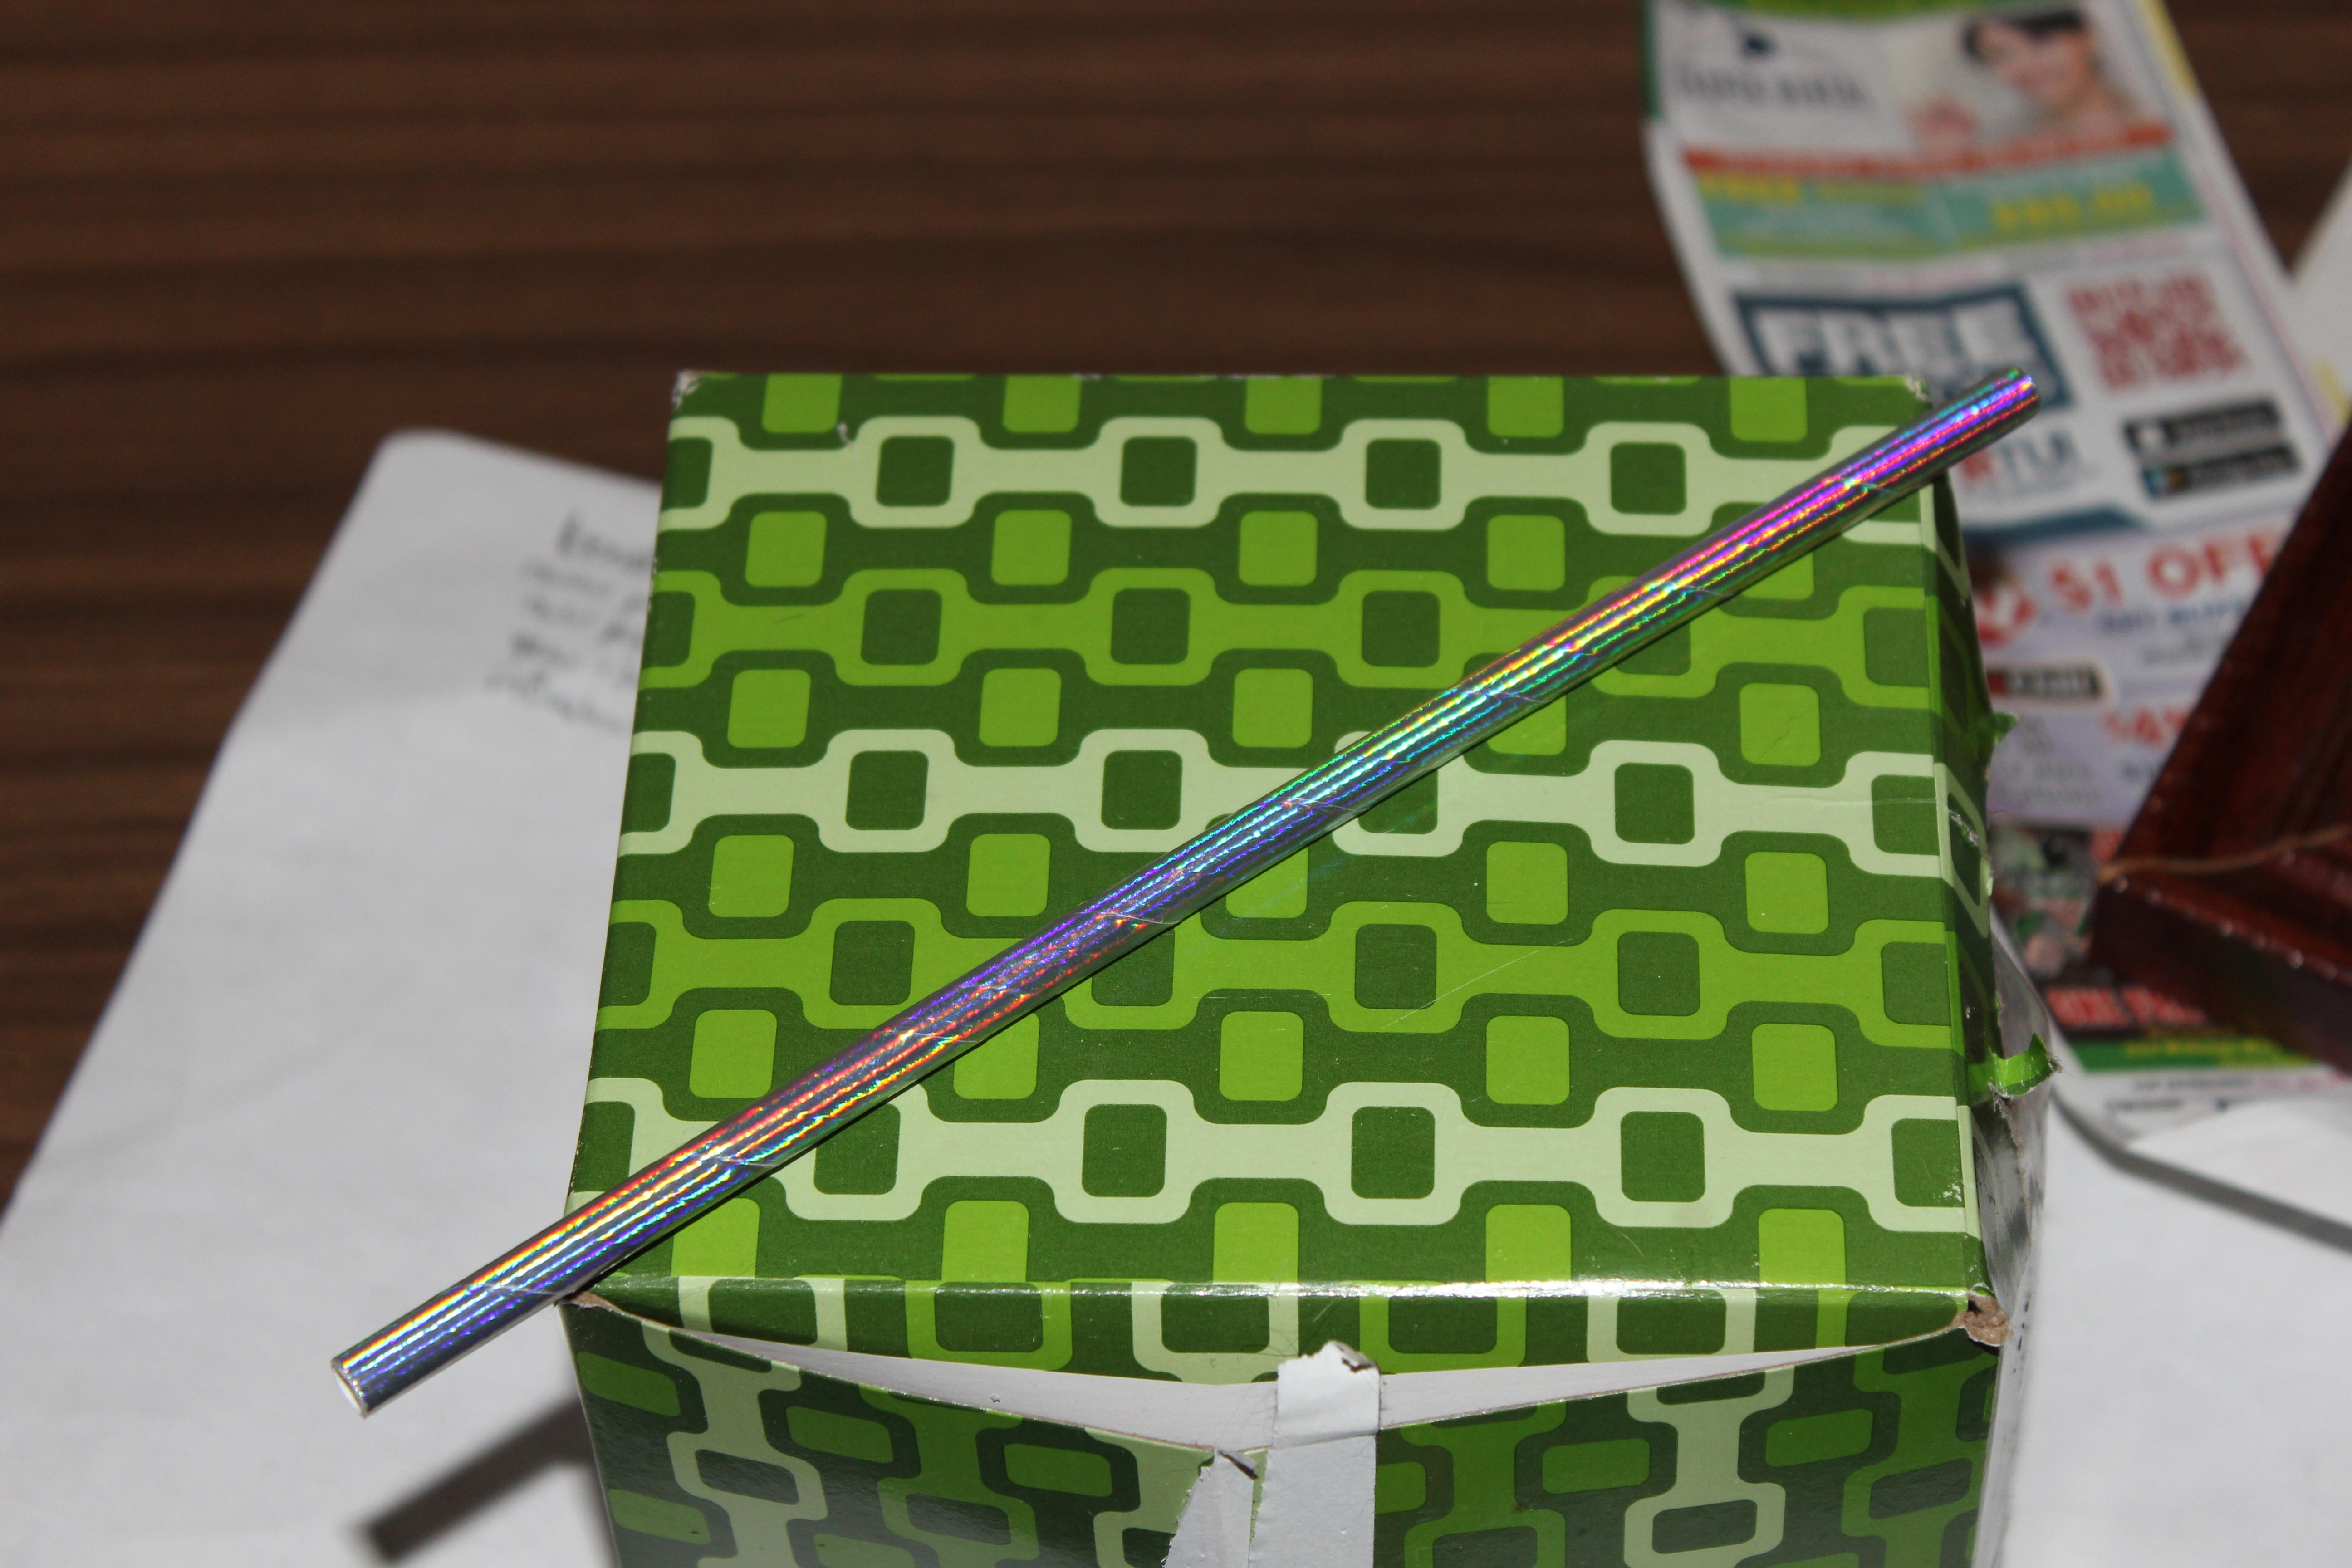silverStraw: (299, 336, 2082, 1447)
